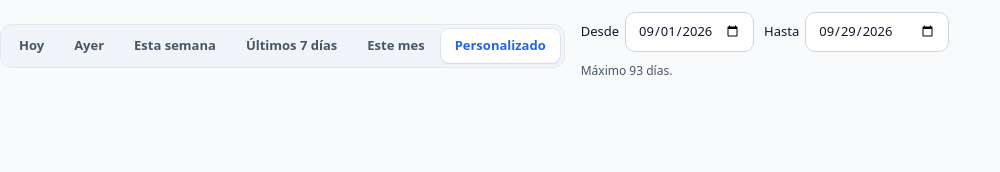
RangePicker: tope de 93 días › moves the other end and explains it
The image size is (1000, 172).
Check: the text "Máximo 93 días." is shown, box [581,62,672,78]
In the date field labelled "Desde": (690, 32) [625,12,754,52], type "2026-01-01"
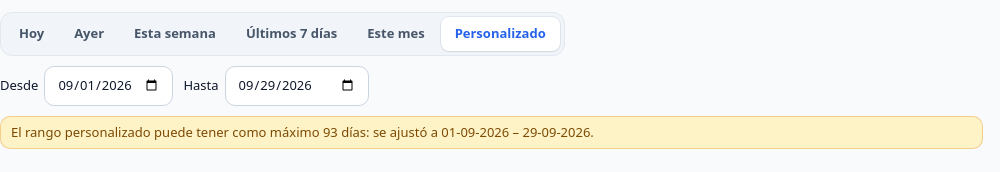
Check: the message shows "como máximo 93 días", box [11,122,594,140]
